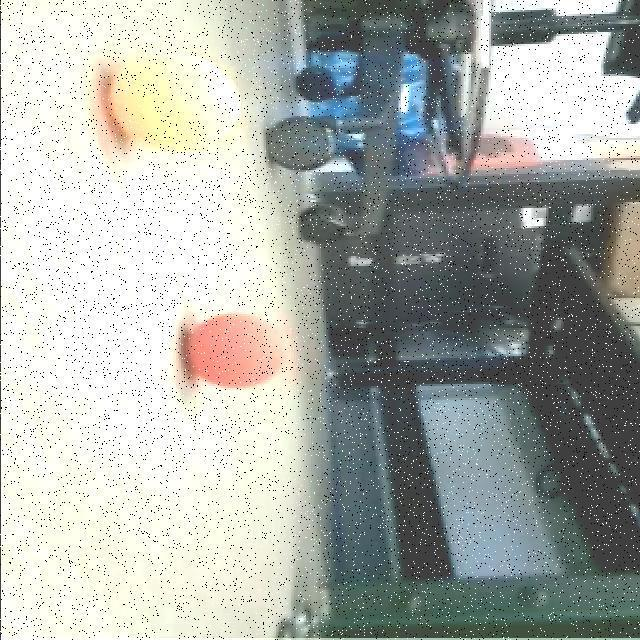ping-pong-ball: (106, 50, 242, 154), (180, 309, 286, 392)
